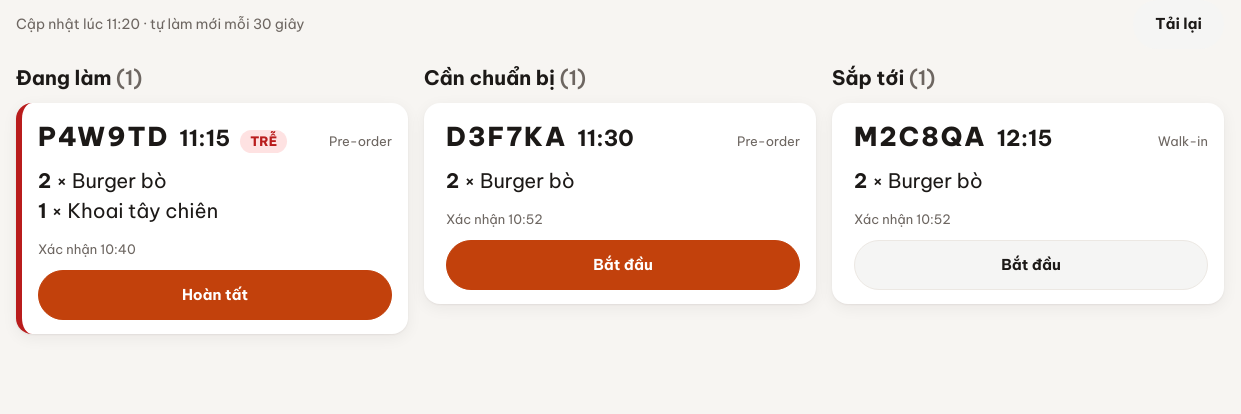
Test case: KitchenPage (UC-12.1) › thao tác của bếp (UC-12.2) › lỗi khác: báo lỗi cho bếp thử lại (E3)
The width and height of the screenshot is (1241, 414).
Click the button with aria-label "Hoàn tất đơn P4W9TD": click(215, 295) [38,270,392,320]
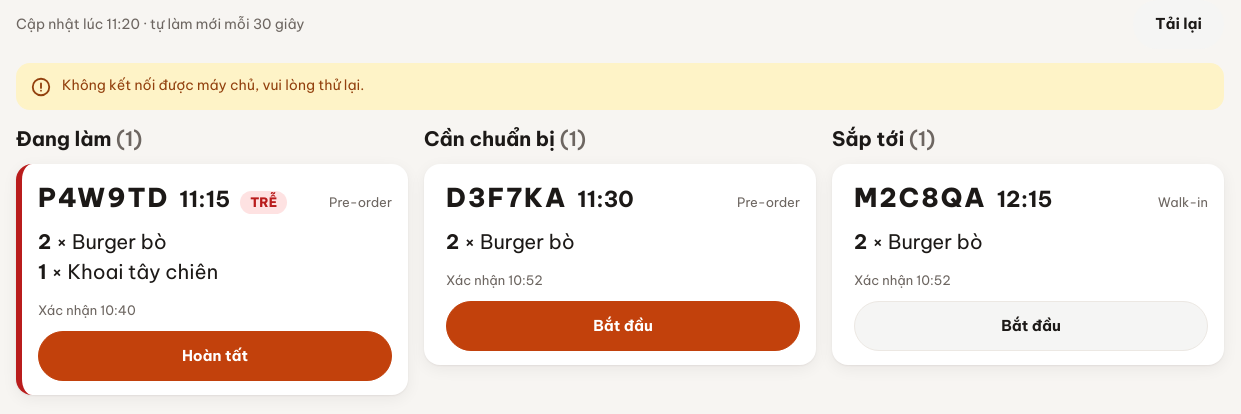
expect the text "Không kết nối được máy chủ, vui lòng thử lại." is shown: met, box [62,74,364,98]
